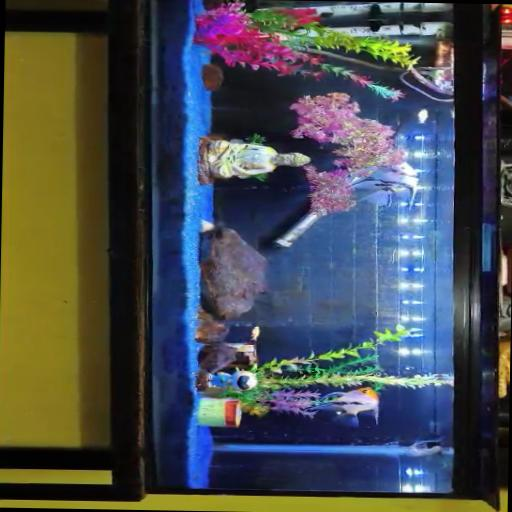Fish: (347, 161, 417, 206), (305, 387, 378, 425), (407, 437, 441, 455), (250, 326, 259, 340)
